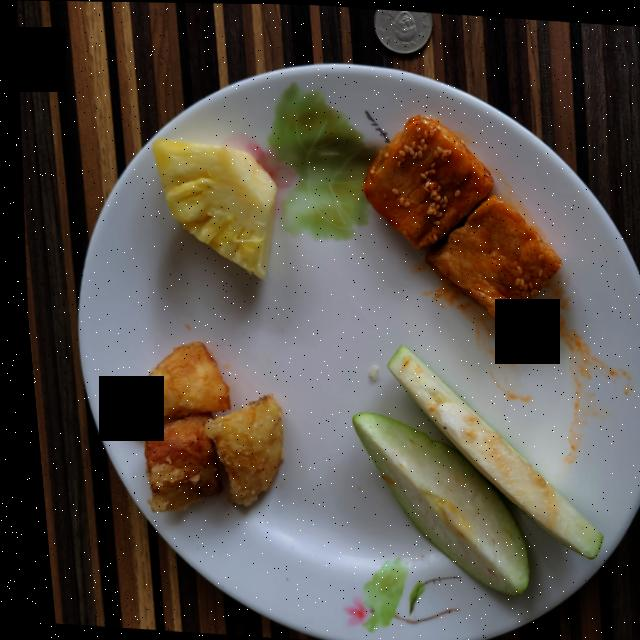coin: (374, 7, 432, 52)
creamy tofu: (360, 113, 556, 319)
fried potato: (120, 340, 275, 511)
guava -sliced-: (345, 344, 593, 593)
pineapple: (151, 137, 273, 277)
